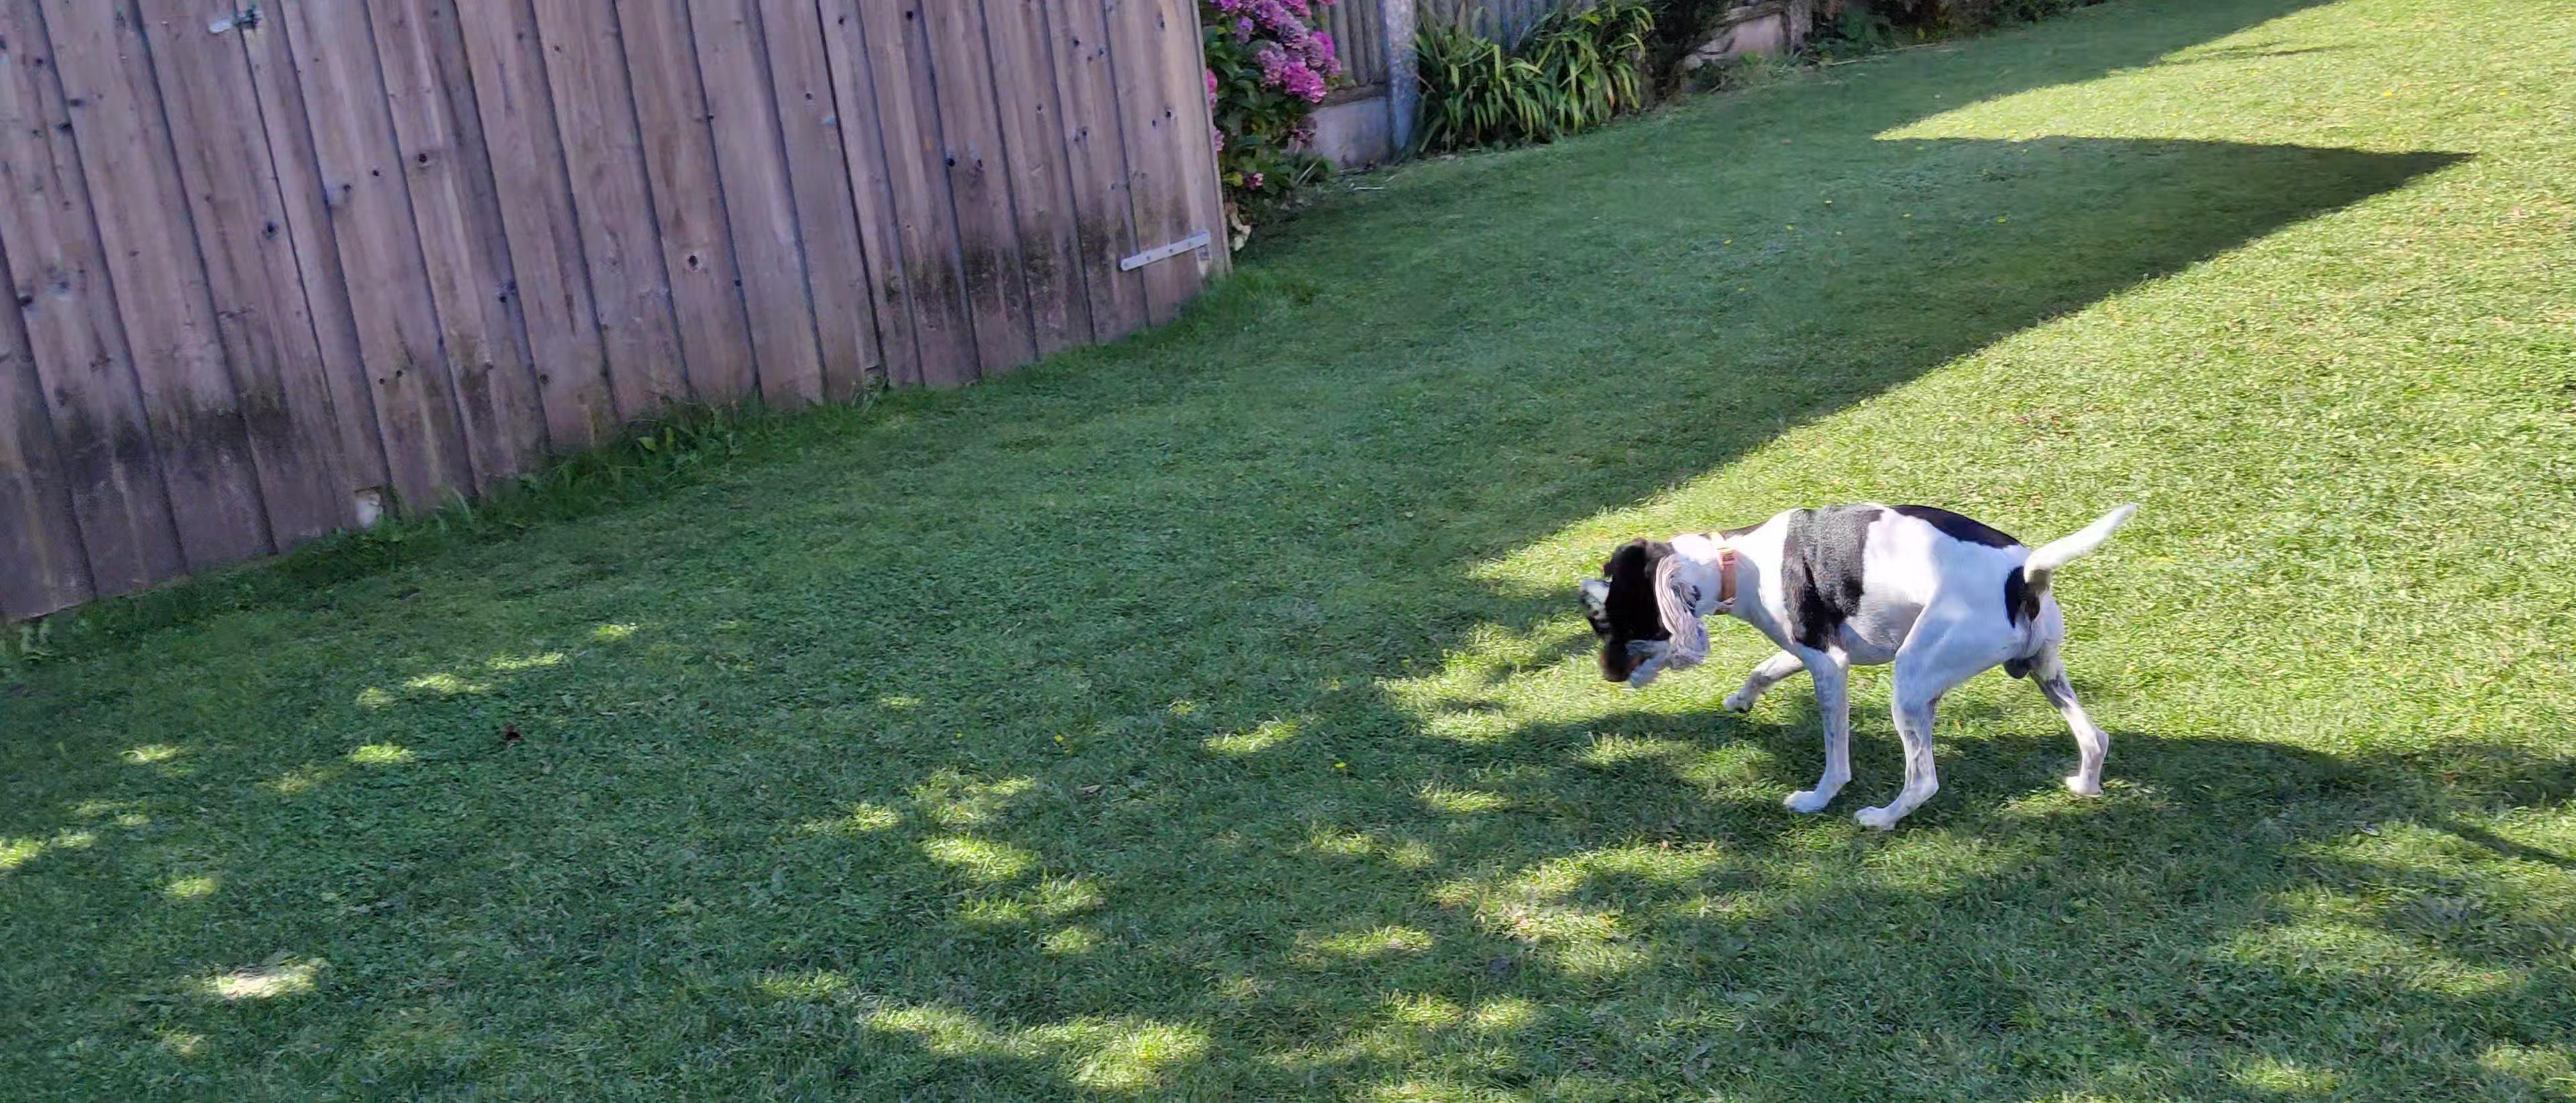Dog: (1589, 482, 2147, 837)
